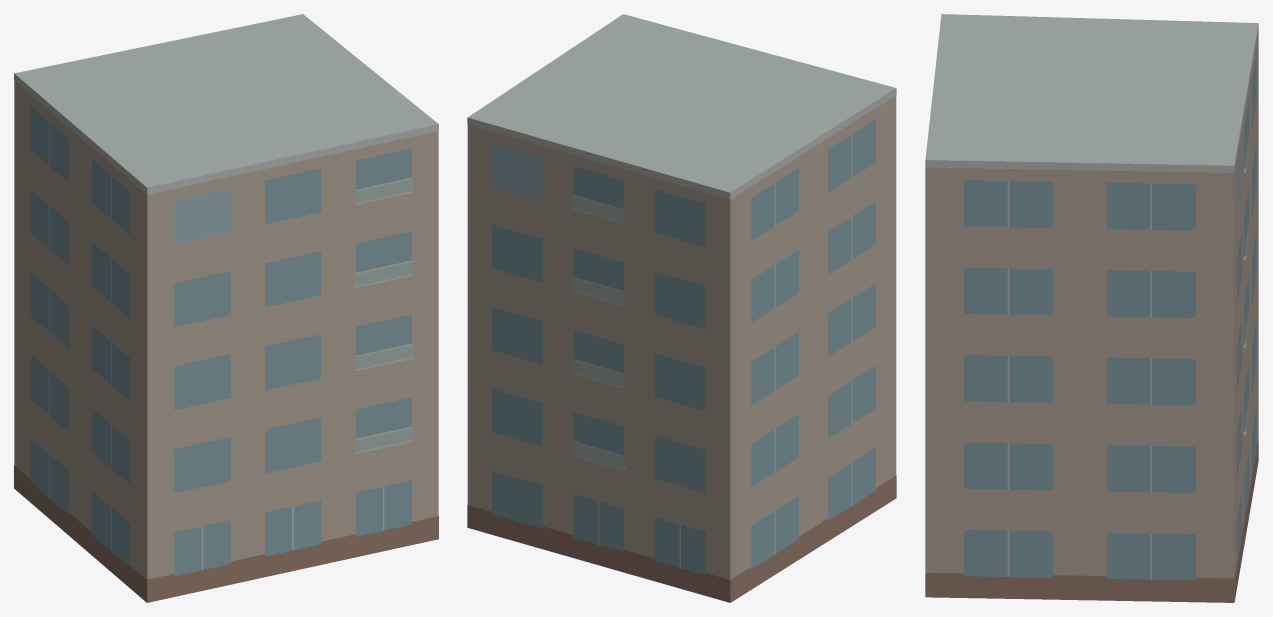
Rendered from survey-upis-32819895.glb.
The picture shows the model from 3 angles, left to right: view 1: azimuth 30°, elevation 25°; view 2: azimuth 150°, elevation 25°; view 3: azimuth 270°, elevation 25°; orthographic projection. The views are drawn at different scales.
Parts seen in each view (by area): view 1: survey-upis-32819895.tmp; view 2: survey-upis-32819895.tmp; view 3: survey-upis-32819895.tmp.
Part boxes in pixels (x1,y1,x2,y2): survey-upis-32819895.tmp: (14,14,438,602); survey-upis-32819895.tmp: (467,14,896,602); survey-upis-32819895.tmp: (925,14,1258,602).
Bounding box in the file's own units: 10.76 × 14.45 × 9.99.
